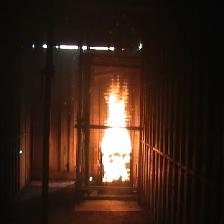fire: (102, 76, 132, 183)
